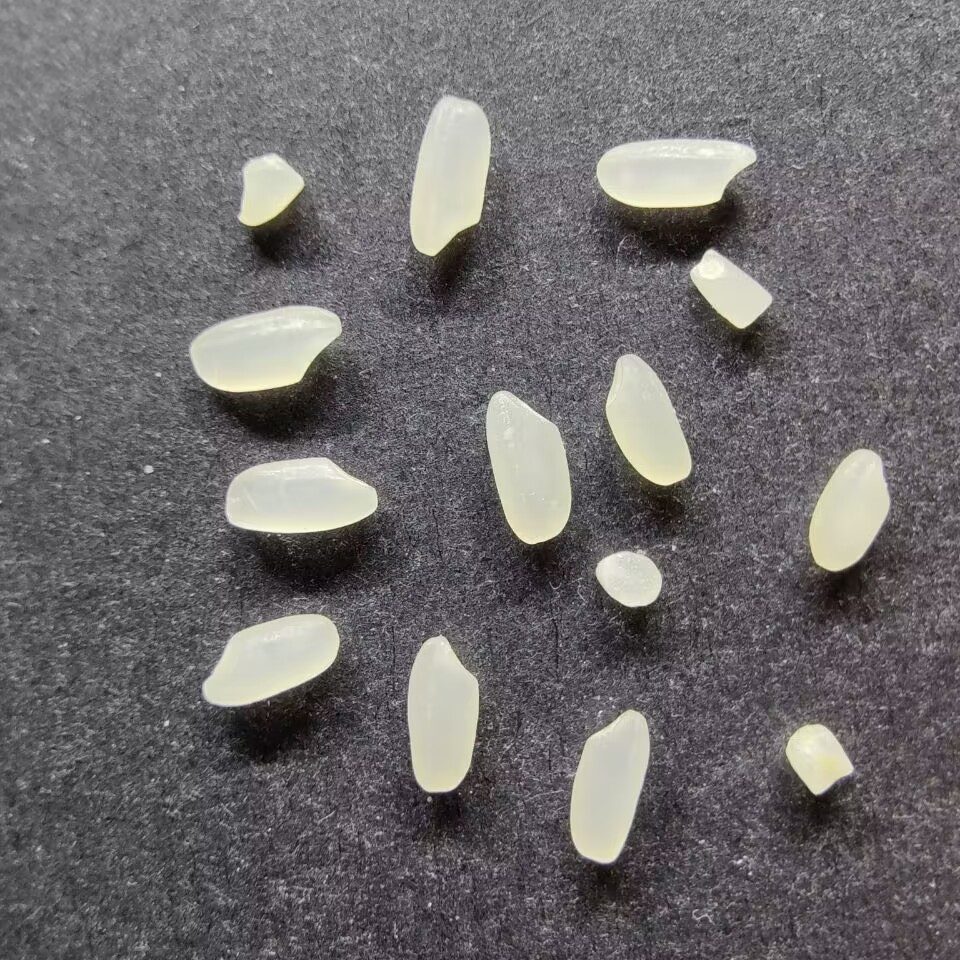broken: (689, 248, 773, 329), (785, 722, 855, 797), (236, 152, 306, 227), (594, 551, 662, 607)
rice: (484, 390, 571, 544), (408, 96, 491, 256), (189, 305, 341, 392), (201, 614, 340, 707), (568, 708, 648, 864), (224, 456, 378, 533), (603, 353, 692, 486), (405, 635, 479, 793), (595, 138, 756, 208), (807, 447, 890, 571)
